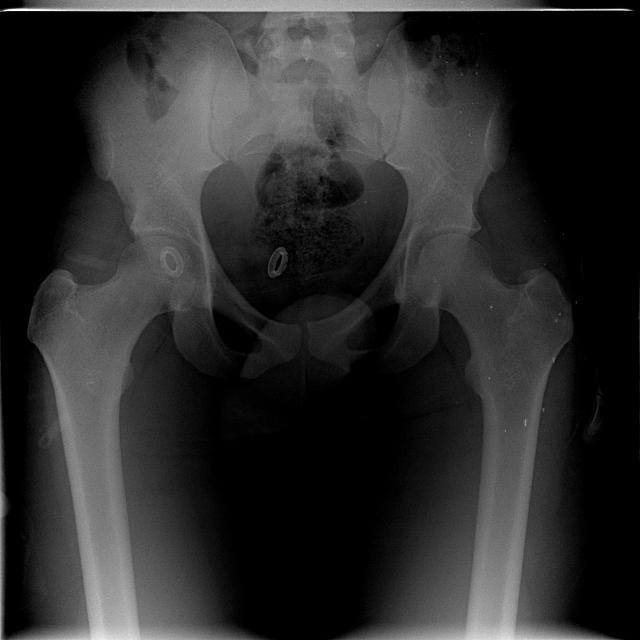normal-left: (414, 233, 574, 563)
normal-right: (28, 236, 202, 568)
